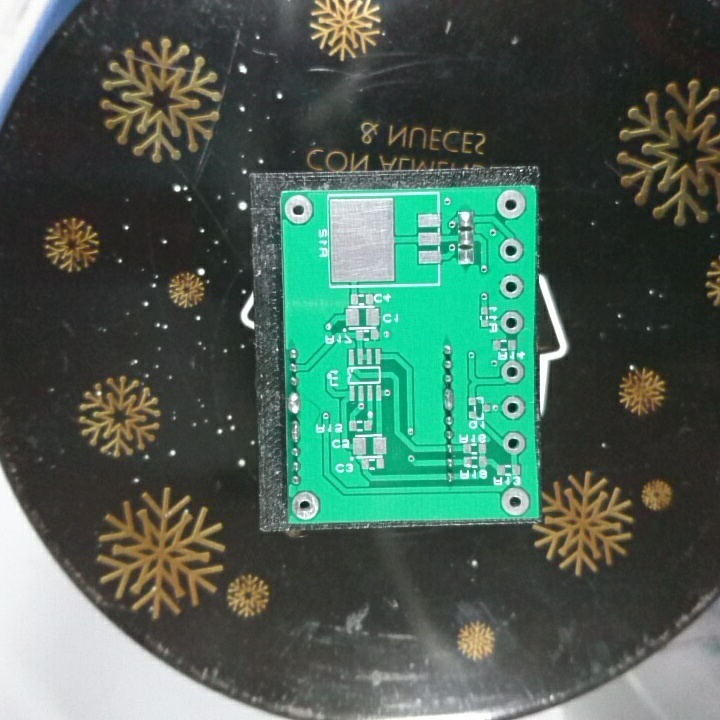F: (494, 188, 527, 222), (282, 192, 314, 226), (291, 489, 321, 522), (499, 485, 531, 515), (497, 271, 525, 303), (499, 429, 528, 458), (497, 308, 526, 336), (497, 236, 523, 266), (500, 358, 526, 386), (499, 395, 524, 420)
P: (440, 384, 455, 412), (286, 389, 302, 415), (289, 418, 304, 443)
